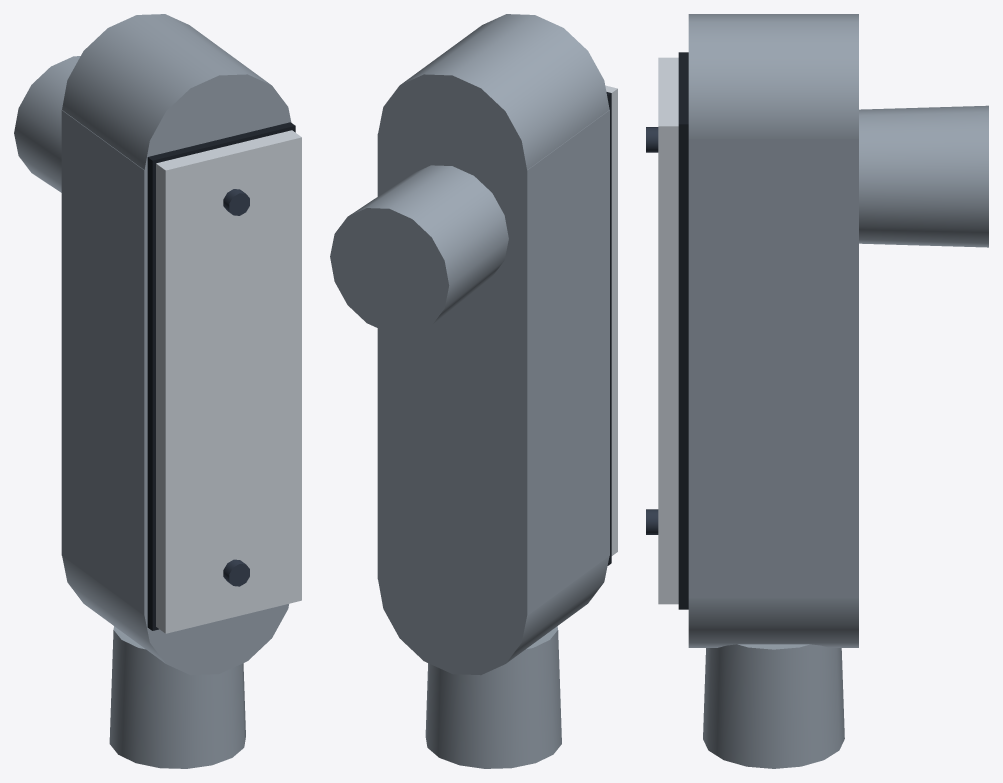
The picture shows the model from 3 angles, left to right: view 1: azimuth 30°, elevation 25°; view 2: azimuth 150°, elevation 25°; view 3: azimuth 270°, elevation 25°; orthographic projection. The views are drawn at different scales.
Visible parts, largest first — view 1: cad-conduit-body-lb-34; view 2: cad-conduit-body-lb-34; view 3: cad-conduit-body-lb-34.
Boxes of the visible parts, x1,y1,x2,y2 form: cad-conduit-body-lb-34: (14,14,301,768); cad-conduit-body-lb-34: (330,14,617,768); cad-conduit-body-lb-34: (646,14,988,768).
Bounding box in the file's own units: 0.044 × 0.195 × 0.0845.
